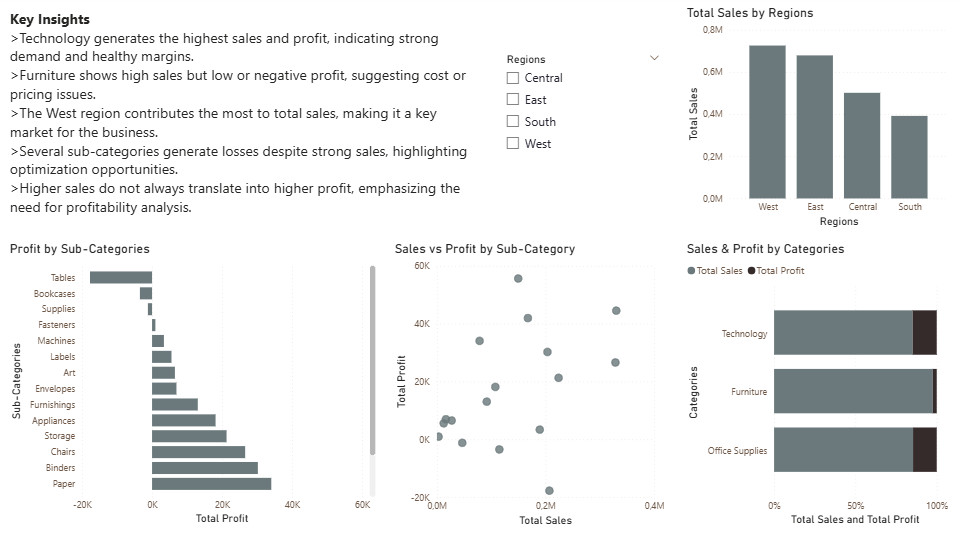

The page's visual inventory and layout, read from the dashboard file:
{"tool":"powerbi","page":{"name":"Page 1","canvas":[1280,720],"ordinal":0},"visuals":[{"type":"hundredPercentStackedBarChart","title":"Sales & Profit by Categories","fields":{"Y":["SampleSuperstore.Total Sales","SampleSuperstore.Total Profit"],"Category":["SampleSuperstore.Categories"]},"box":[911.7,326.3,357.1,383.4],"z":0},{"type":"clusteredColumnChart","fields":{"Y":["SampleSuperstore.Total Sales"],"Category":["SampleSuperstore.Regions"]},"box":[911.7,13.2,357.1,300],"z":1},{"type":"barChart","title":"Profit by Sub-Categories","fields":{"Y":["SampleSuperstore.Total Profit"],"Category":["SampleSuperstore.Sub-Categories"]},"box":[11.7,326.3,496.1,382],"z":2},{"type":"scatterChart","title":"Sales vs Profit by Sub-Category","fields":{"X":["SampleSuperstore.Total Sales"],"Y":["SampleSuperstore.Total Profit"],"Category":["SampleSuperstore.Sub-Categories"]},"box":[523.9,326.3,368.8,383.4],"z":3},{"type":"slicer","fields":{"Values":["SampleSuperstore.Regions"]},"box":[664.4,71.7,228.3,184.4],"z":4},{"type":"textbox","box":[11.7,13.2,627.8,300],"z":5}]}

Visuals, with their boxes in screenshot pixels (x1, y1, x2, y2), scaled from the page's 1280x720 canvas onto the 958x533 screenshot:
"Sales & Profit by Categories" hundredPercentStackedBarChart: detection(682, 242, 950, 525)
clusteredColumnChart - SampleSuperstore.Total Sales x SampleSuperstore.Regions: detection(682, 10, 950, 232)
"Profit by Sub-Categories" barChart: detection(9, 242, 380, 524)
"Sales vs Profit by Sub-Category" scatterChart: detection(392, 242, 668, 525)
slicer - SampleSuperstore.Regions: detection(497, 53, 668, 190)
textbox: detection(9, 10, 479, 232)
